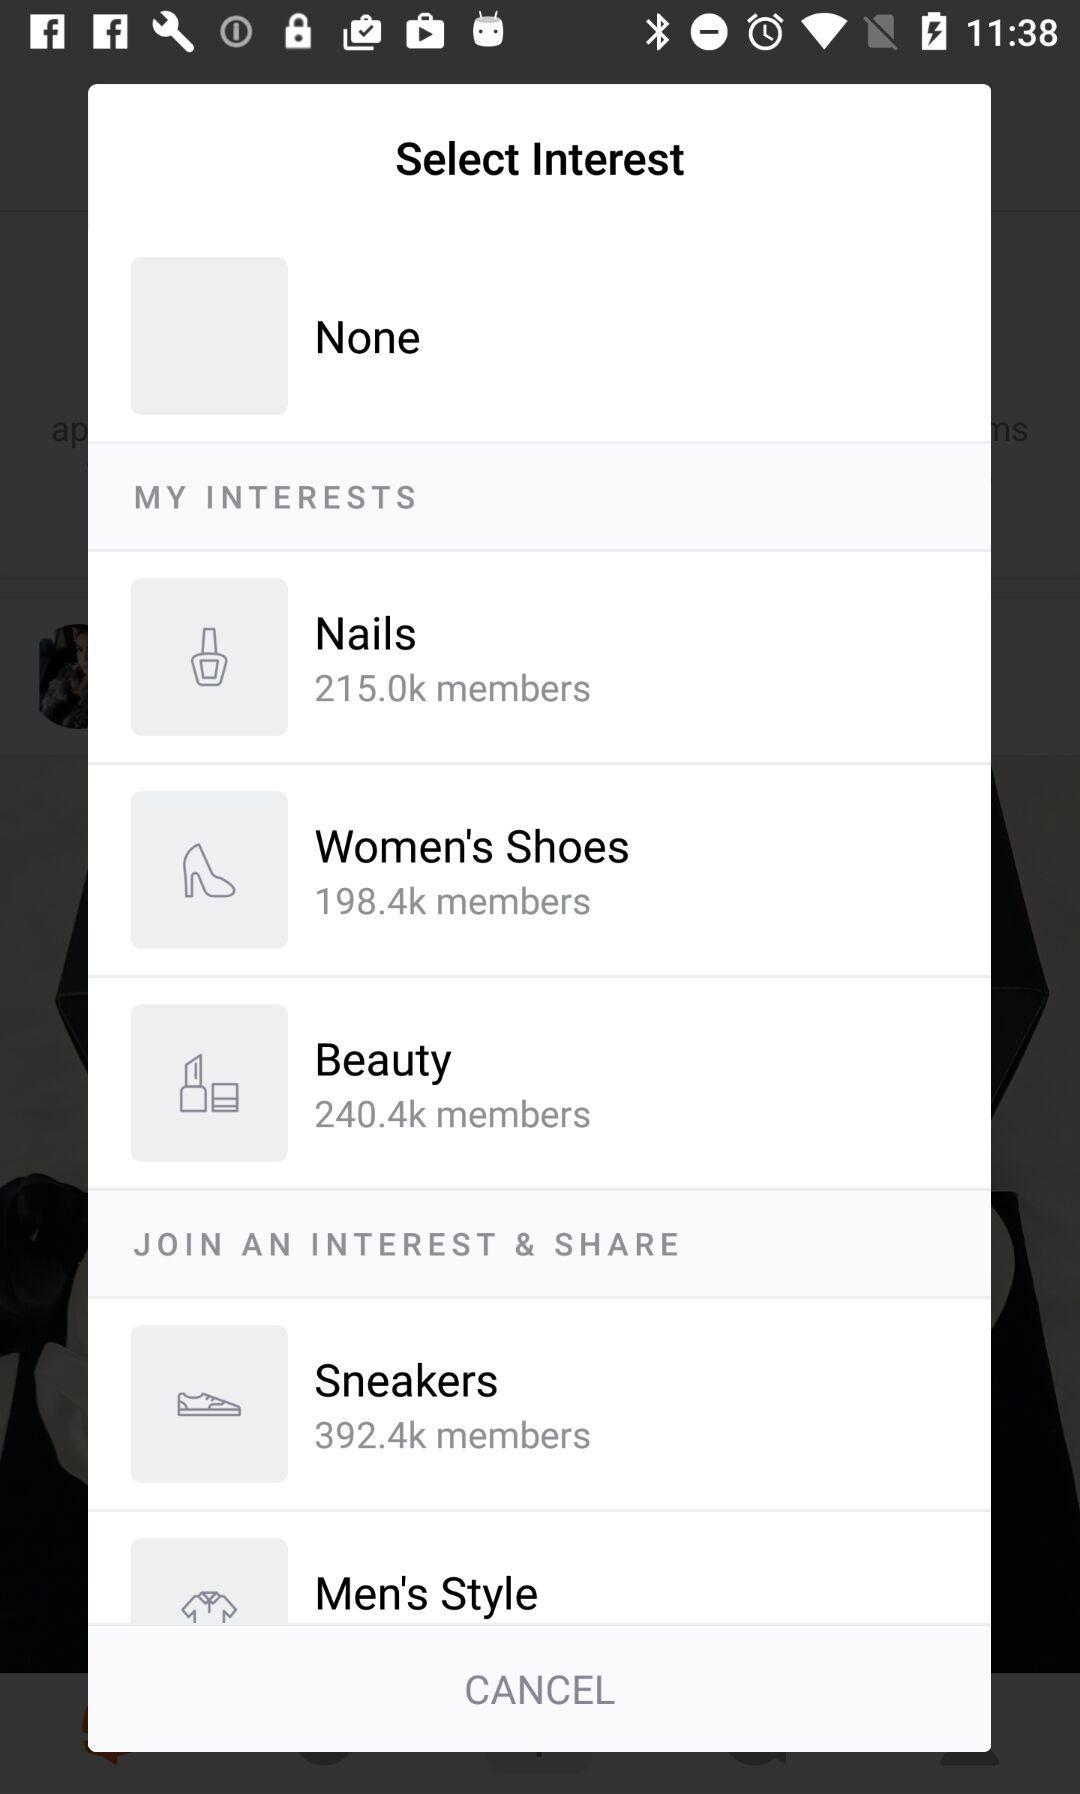Image: (179, 1055, 240, 1114), (183, 843, 237, 900), (191, 628, 229, 686), (183, 1592, 238, 1624), (178, 1392, 242, 1417)
Modal: (88, 85, 990, 1752)
Text: (135, 1233, 676, 1257), (316, 828, 629, 864), (397, 142, 685, 178), (318, 1574, 538, 1618), (316, 1098, 591, 1130), (316, 1420, 591, 1451), (316, 885, 591, 916), (316, 673, 591, 702), (136, 484, 415, 510), (318, 1361, 497, 1398), (319, 1043, 452, 1085), (318, 322, 420, 356), (318, 616, 416, 651)
TextButton: (88, 1626, 992, 1753)
UpperTaskBar: (1, 1, 1080, 64)
